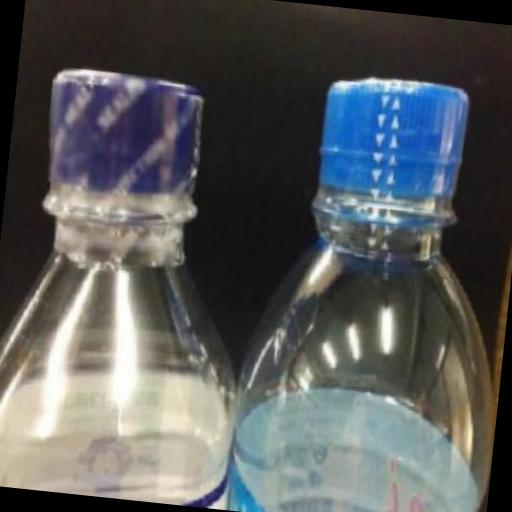Coca: (206, 49, 512, 512), (0, 47, 283, 509)
